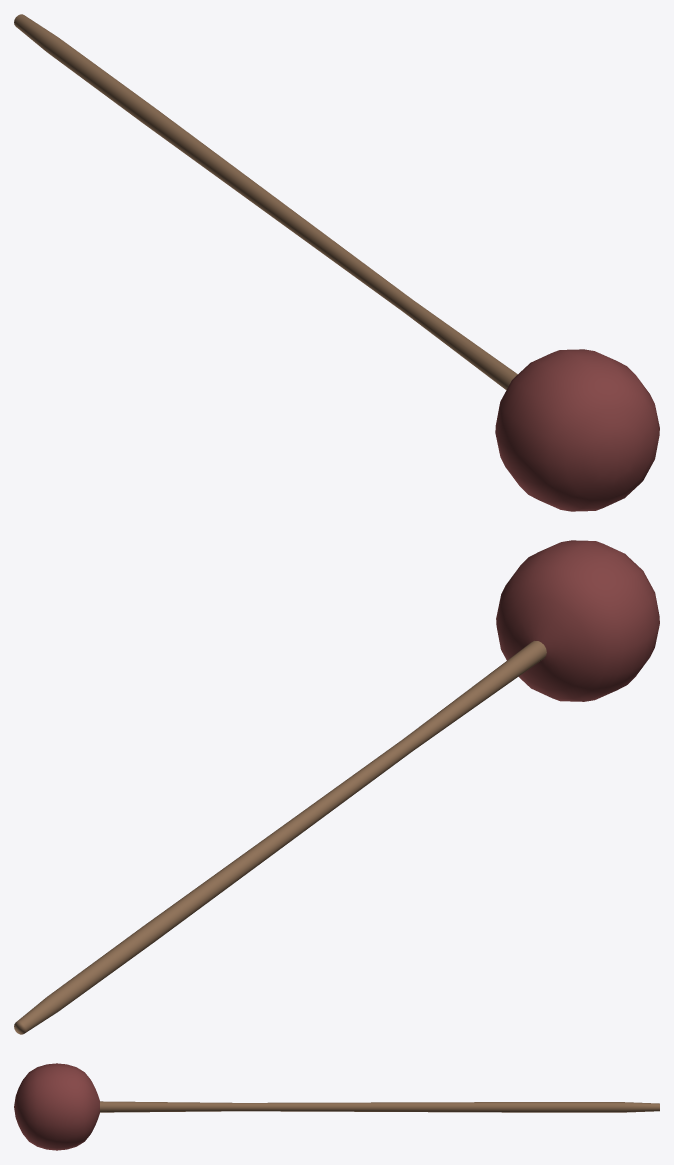
File: drumstick.fbx
3 views of the same model, one above another, from view 1: azimuth 30°, elevation 25°; view 2: azimuth 150°, elevation 25°; view 3: azimuth 270°, elevation 25° (orthographic). The views are drawn at different scales.
Parts seen in each view (by area): view 1: drumstick_GEO; view 2: drumstick_GEO; view 3: drumstick_GEO.
Part boxes in pixels (x1,y1,x2,y2): drumstick_GEO: [14, 14, 659, 511]; drumstick_GEO: [14, 540, 659, 1034]; drumstick_GEO: [14, 1063, 659, 1150].
Size of the model in its own units: 11.86 by 11.86 by 87.49.
